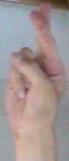R: (1, 1, 69, 161)
